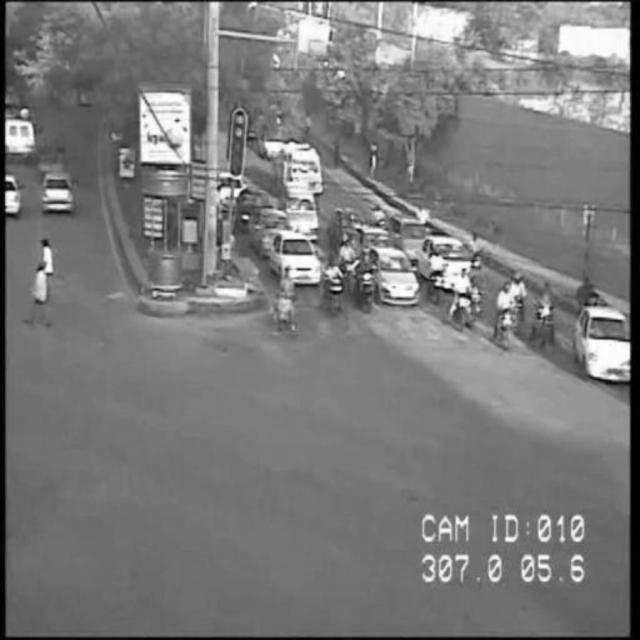person: (29, 264, 56, 331), (36, 236, 62, 291)
vehicle: (576, 310, 632, 388), (370, 244, 418, 308), (276, 229, 321, 285), (275, 264, 299, 338), (535, 282, 559, 352), (320, 250, 346, 308), (42, 171, 76, 215), (497, 278, 517, 349), (453, 267, 475, 331)
